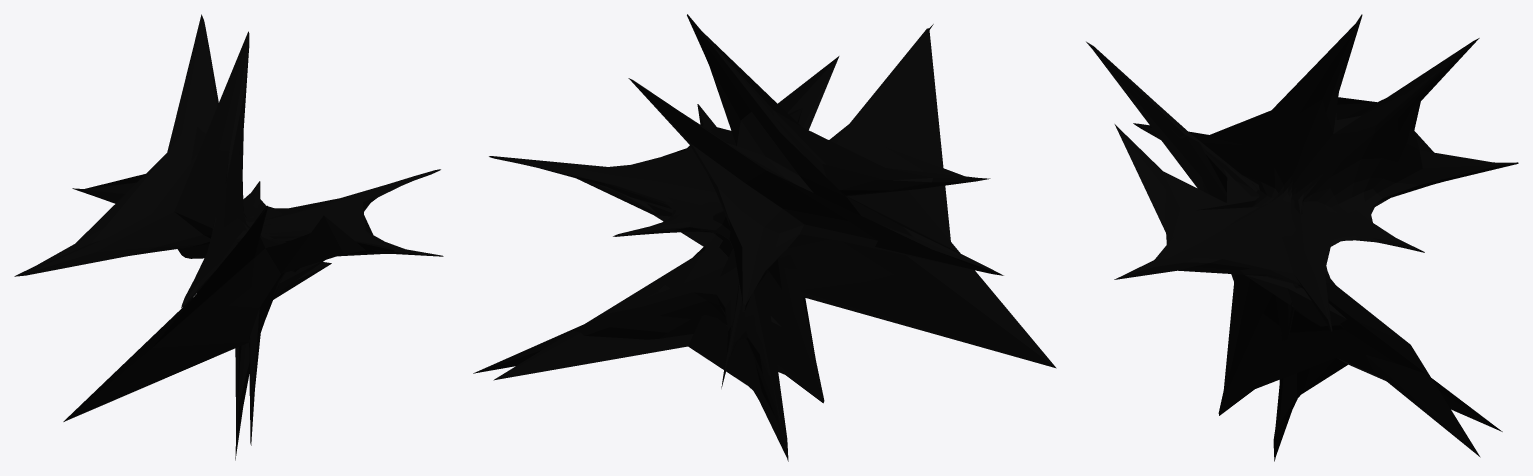
Rendered from environement03.obj.
3 renders of one model, left to right at view 1: azimuth 30°, elevation 25°; view 2: azimuth 150°, elevation 25°; view 3: azimuth 270°, elevation 25°, orthographic. The views are drawn at different scales.
Visible parts, largest first — view 1: Icosphere.001; view 2: Icosphere.001; view 3: Icosphere.001.
Boxes of the visible parts, <box> form: Icosphere.001: <box>14,14,443,460</box>; Icosphere.001: <box>473,14,1056,461</box>; Icosphere.001: <box>1086,14,1518,461</box>.
Bounding box in the file's own units: 131 × 114 × 93.95.
1 material, 1 textured.
